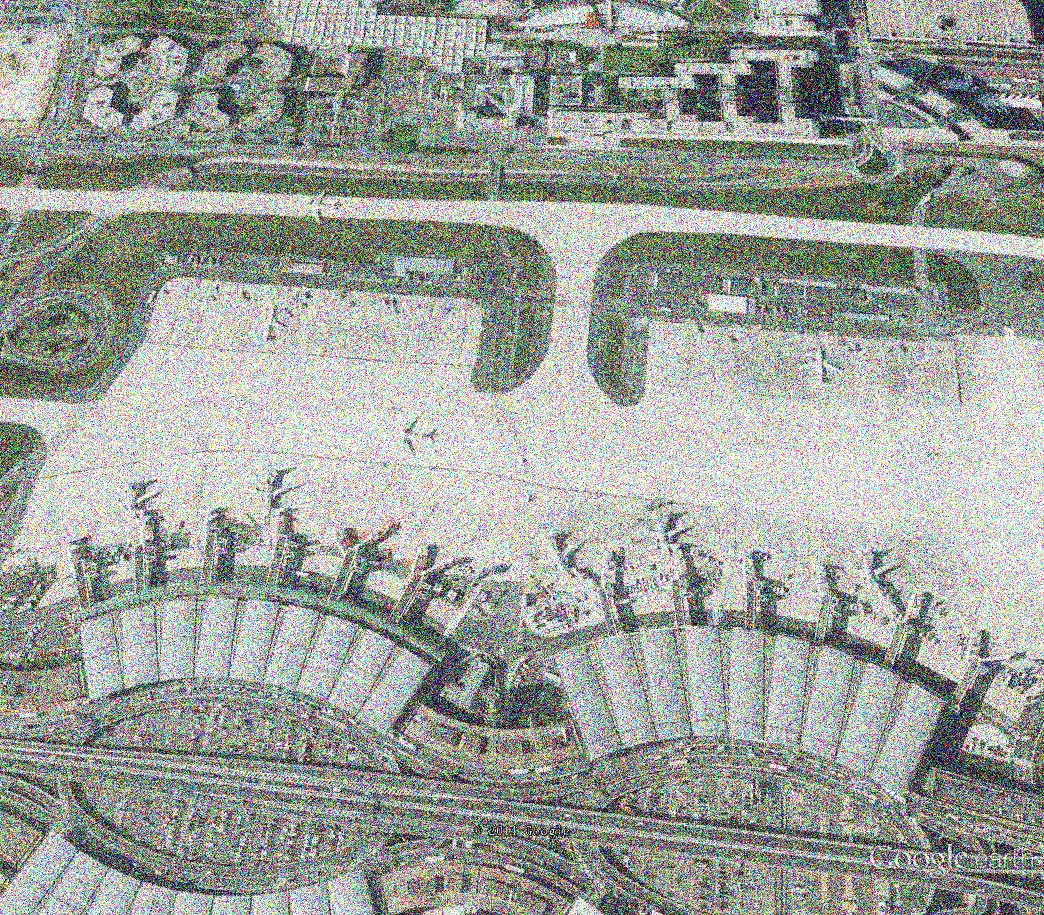aircraft: (525, 528, 584, 582), (239, 466, 295, 521), (635, 507, 691, 557), (841, 548, 899, 596), (791, 345, 847, 391), (376, 415, 428, 463), (106, 479, 158, 520), (297, 187, 342, 226), (251, 303, 289, 345), (54, 534, 86, 577)
